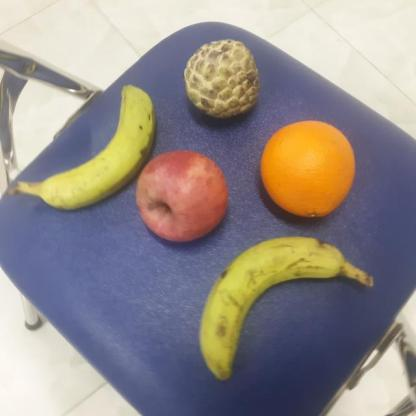annona: (183, 38, 262, 119)
apple: (135, 150, 229, 244)
banana: (194, 236, 349, 385), (20, 78, 156, 211)
orange: (258, 119, 356, 220)
